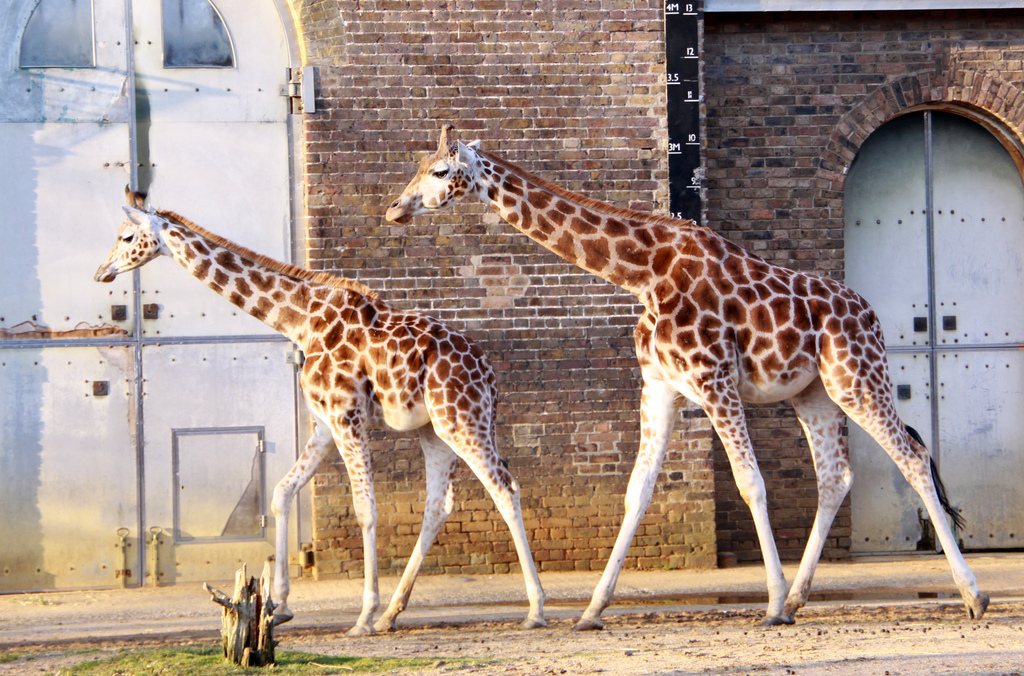giraffe: (388, 107, 1007, 622), (84, 184, 546, 629)
